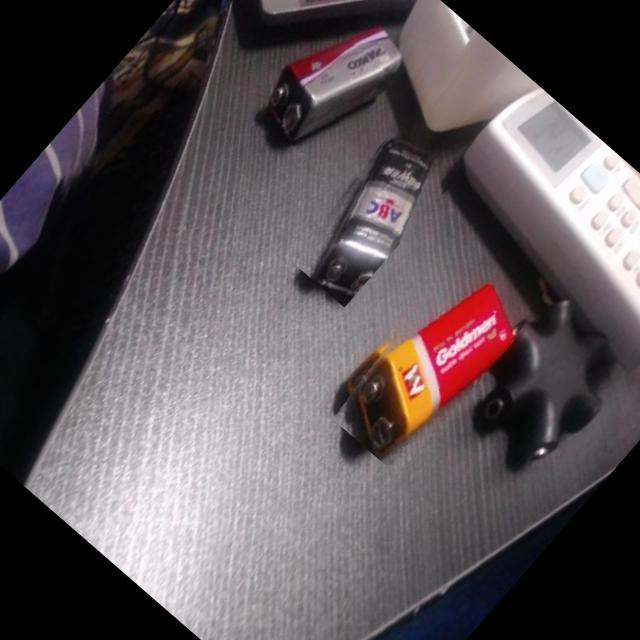Hazard: (320, 253, 533, 476), (284, 121, 461, 308), (247, 0, 416, 167)
